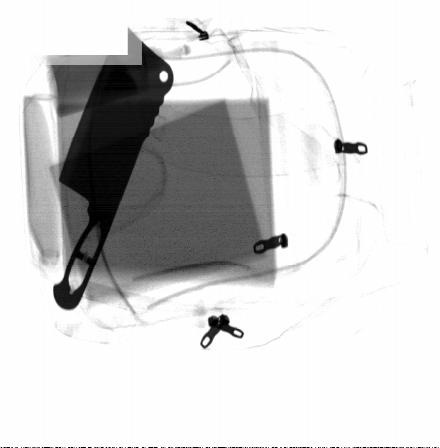Knife: (53, 23, 175, 311)
